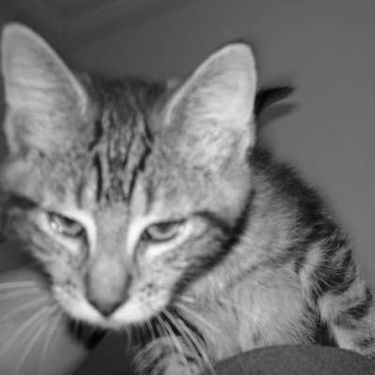cat: (1, 15, 369, 362)
